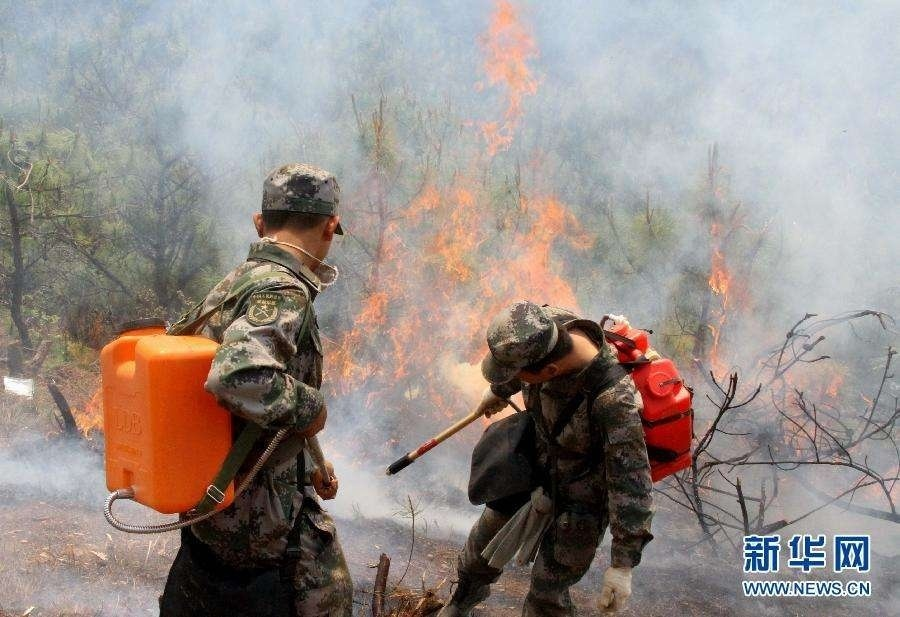fire: (330, 5, 598, 426)
